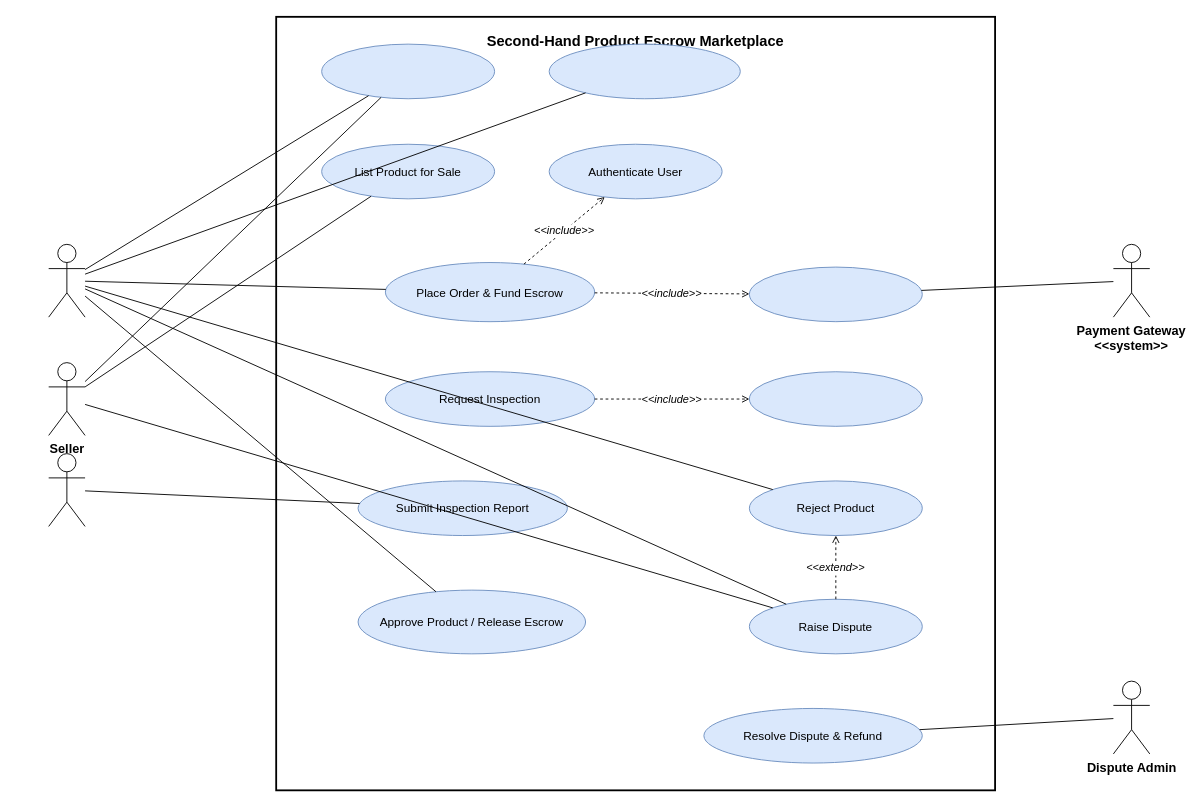
This 1204x806 diagram has some shape labels left out. The shapes that lost their labels are listed below. From the top down, each one's centre as x and y in pixels, then its label:
At (408,71): "Register / Login".
At (644,71): "Browse & Search Listings".
At (66,280): "Buyer".
At (835,294): "Make Payment".
At (835,398): "Send Notification".
At (66,489): "Inspection Agent".
